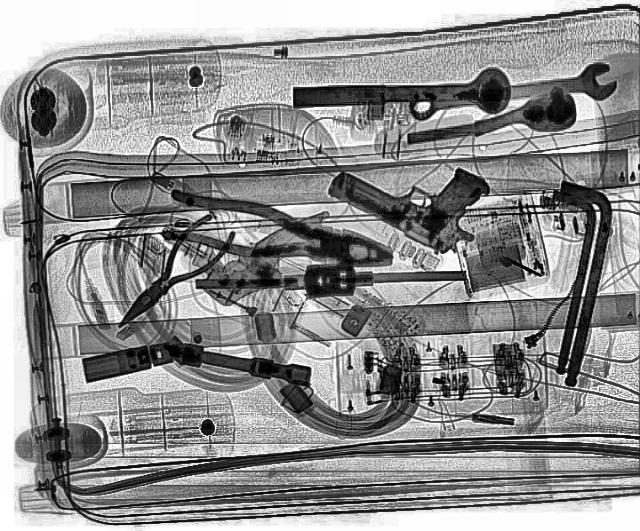Gun: (317, 125, 513, 262)
Pliers: (153, 184, 401, 288), (99, 211, 244, 341)
Wrench: (402, 60, 620, 128)
